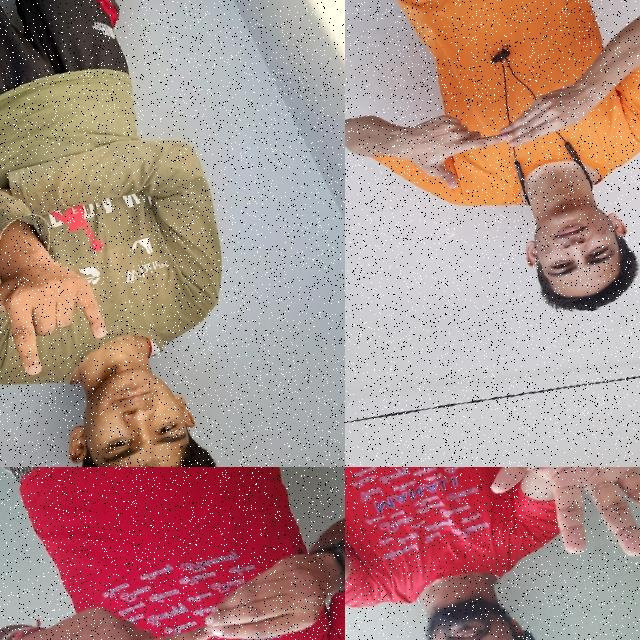Corna: (0, 214, 137, 397)
Five Fathers: (5, 521, 345, 640), (392, 49, 626, 208)
Moutza: (469, 467, 640, 595)
